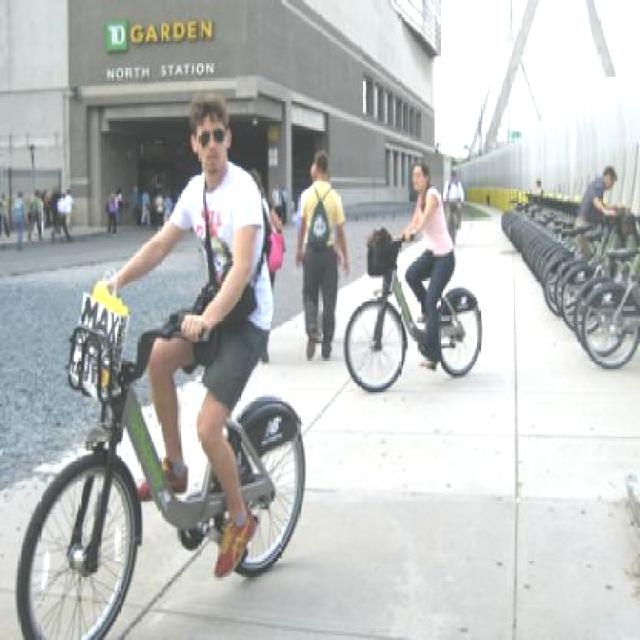Without Helmet: (180, 86, 232, 179), (404, 154, 436, 197)
